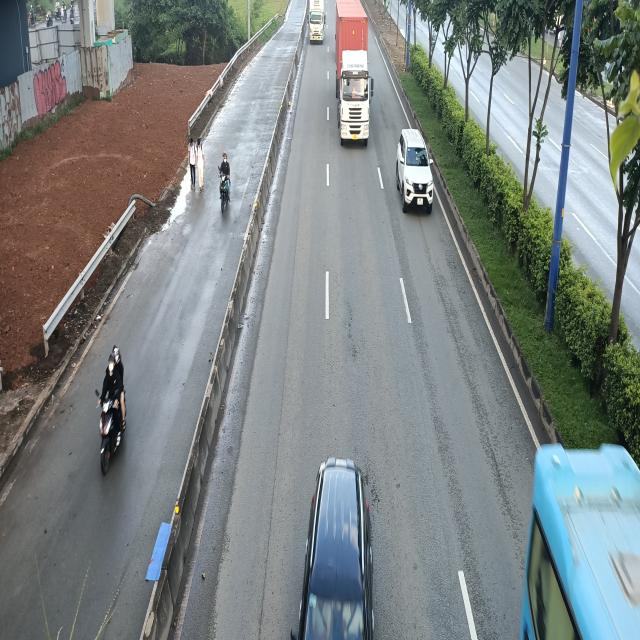car: (397, 131, 434, 216)
container: (336, 0, 375, 148)
truck: (308, 1, 325, 42)
